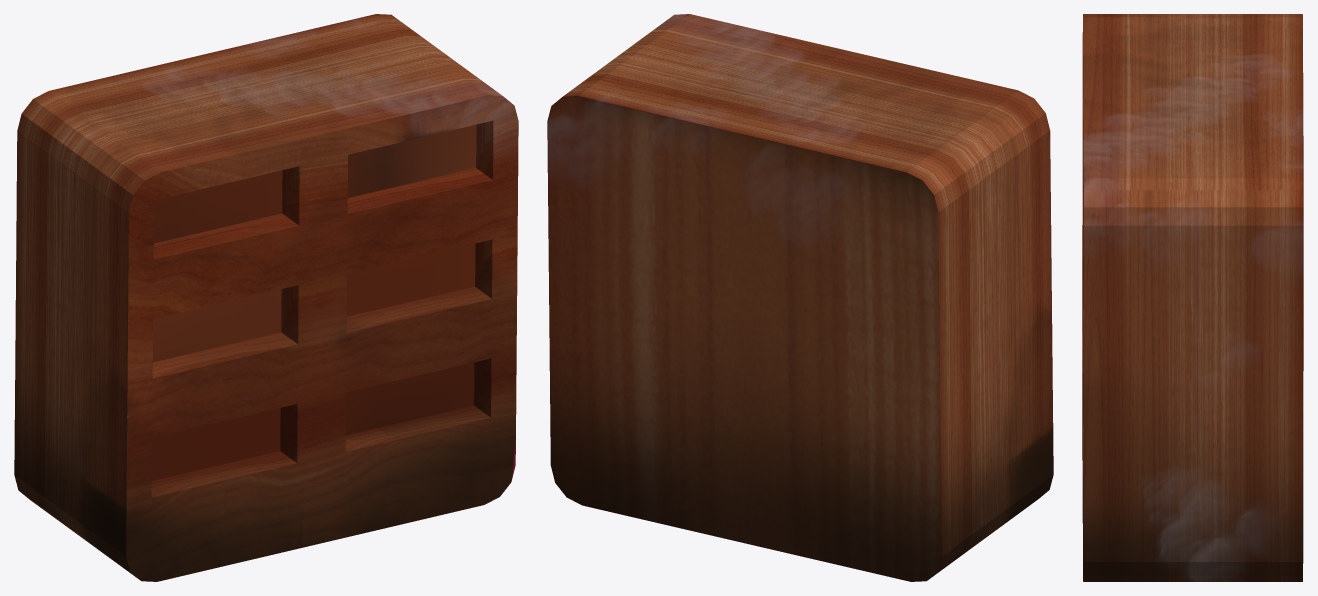
Rendered from Libreríasin libros.fbx.
3 views of the same model, side by side, from view 1: azimuth 30°, elevation 25°; view 2: azimuth 150°, elevation 25°; view 3: azimuth 270°, elevation 25° (orthographic).
Parts seen in each view (by area): view 1: Cube; view 2: Cube; view 3: Cube.
Boxes of the visible parts, left/top/right/bottom form: Cube: left=14, top=14, right=518, bottom=581; Cube: left=547, top=14, right=1053, bottom=581; Cube: left=1082, top=14, right=1303, bottom=581.
Size of the model in its own units: 202 by 202 by 99.83.
1 material, 1 textured.
